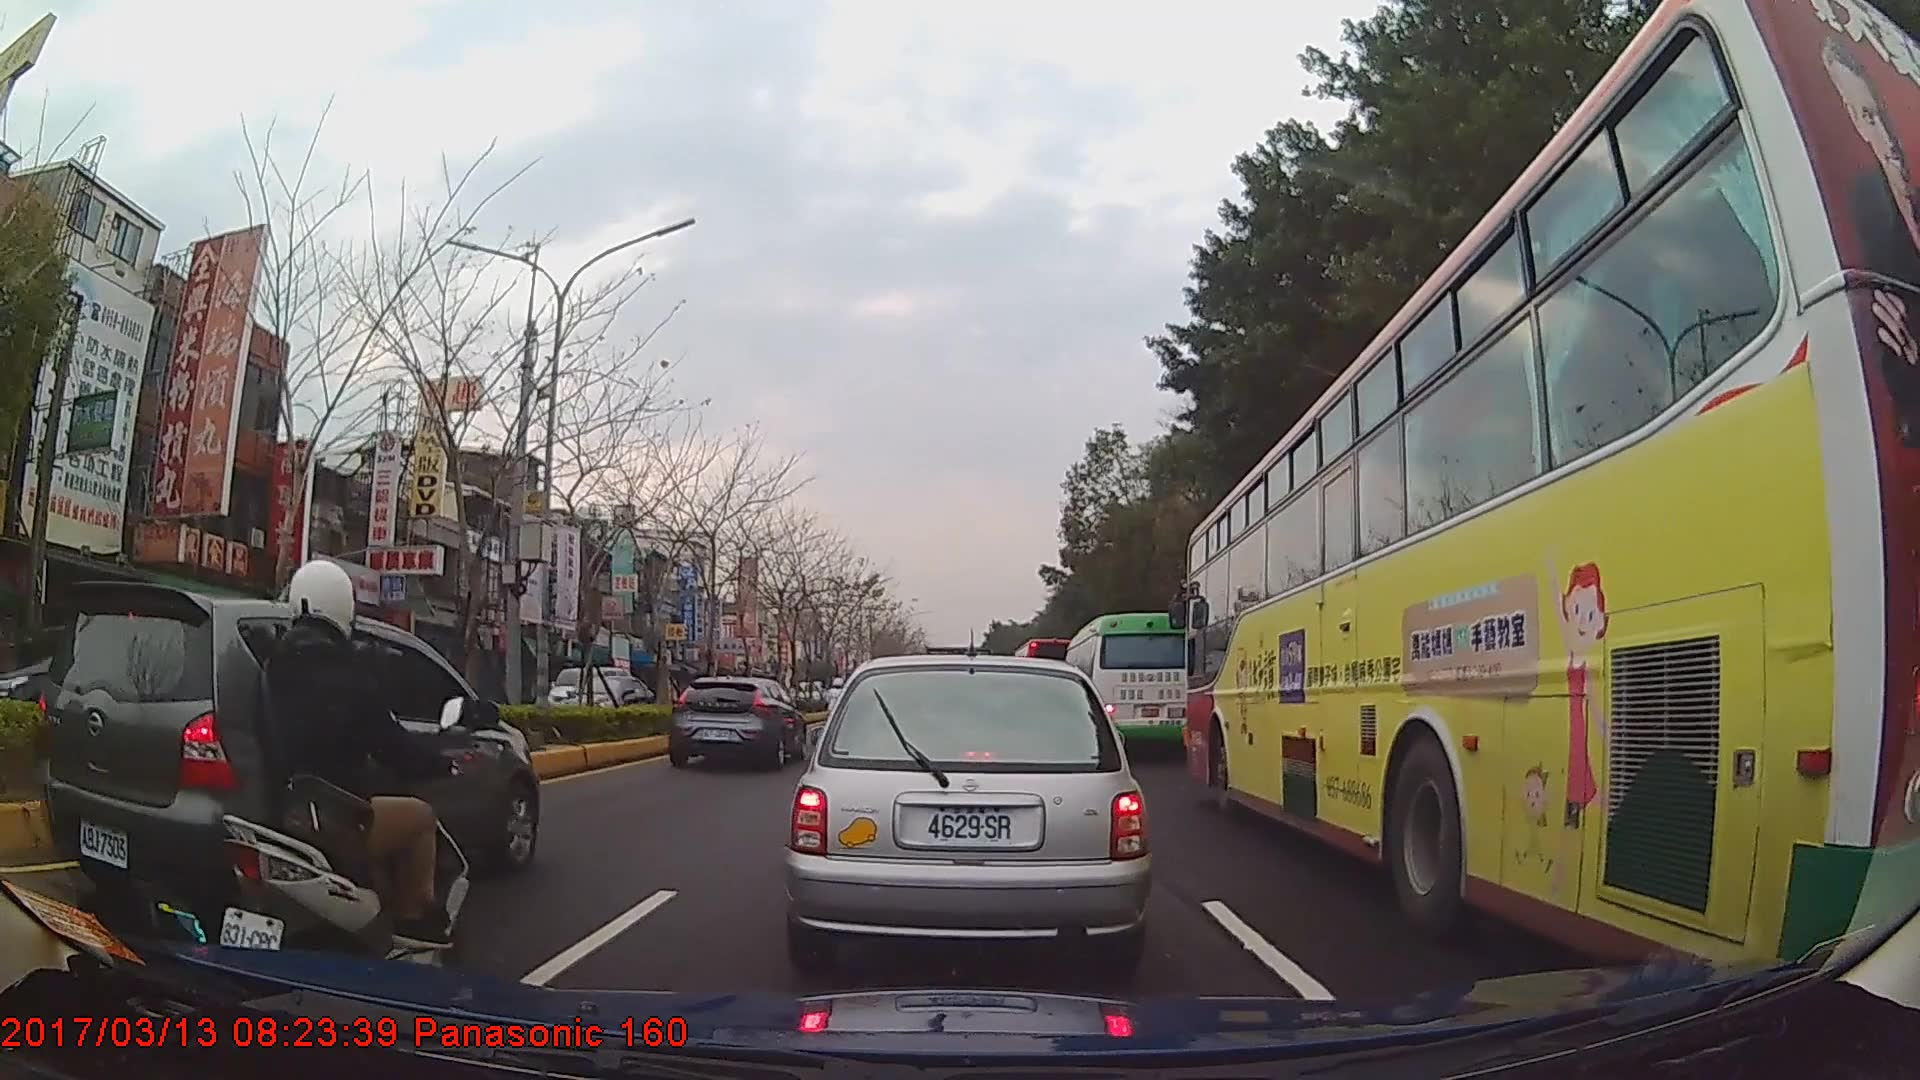rider: (224, 555, 470, 990), (824, 676, 851, 737)
vehicle: (1185, 0, 1920, 979), (36, 579, 538, 931), (785, 652, 1151, 980), (0, 603, 324, 787), (1061, 612, 1196, 761), (664, 672, 806, 775), (553, 674, 653, 729)
